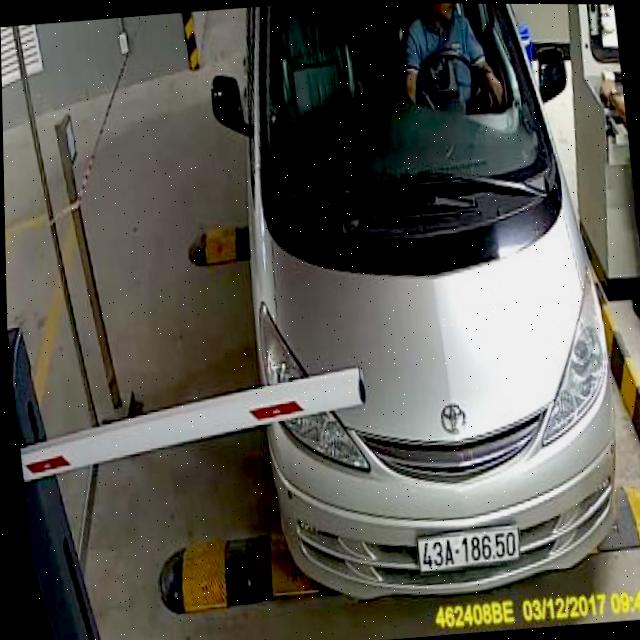car: (194, 1, 640, 619)
plate: (411, 519, 521, 578)
